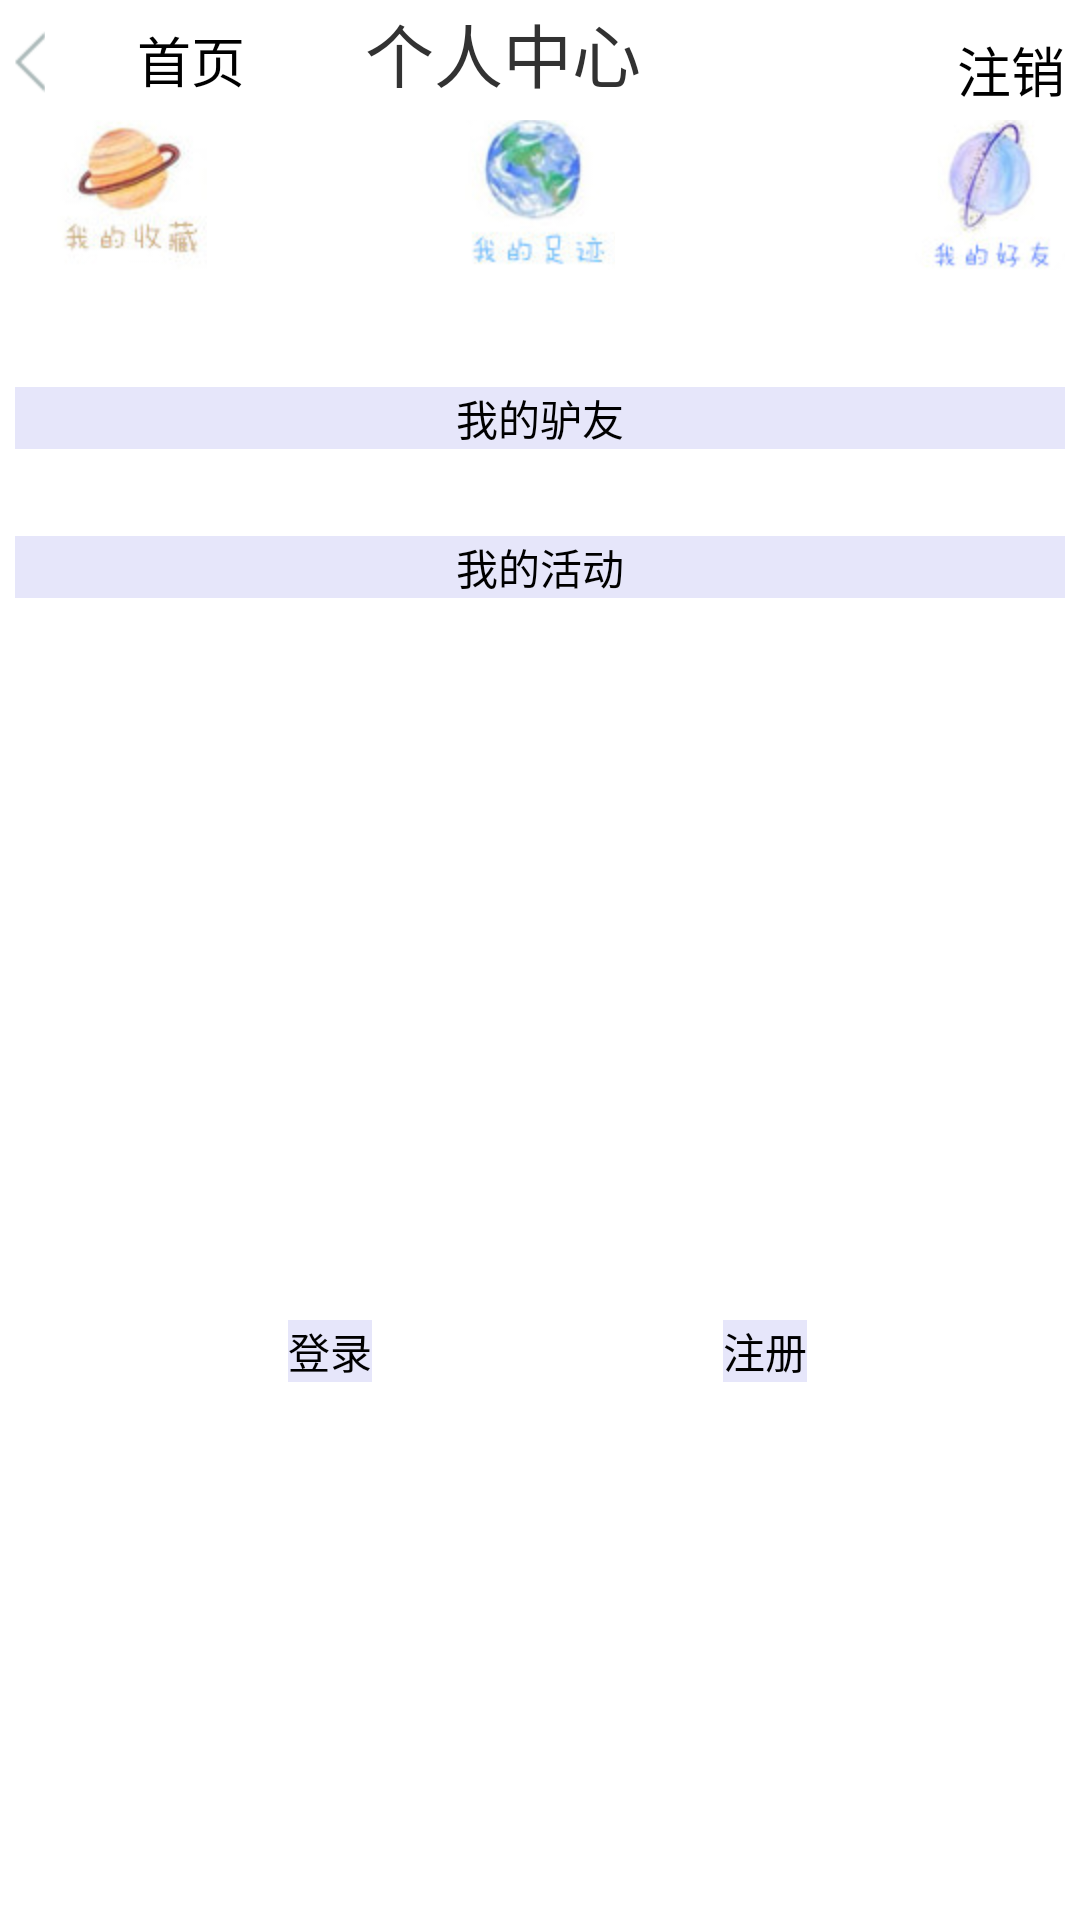

Screen size 1080px×1920px. Icon name, then its box in pixels as (left=x1, top=y1, right=x2, bottom=y2):
arrow: (left=15, top=33, right=45, bottom=91)
